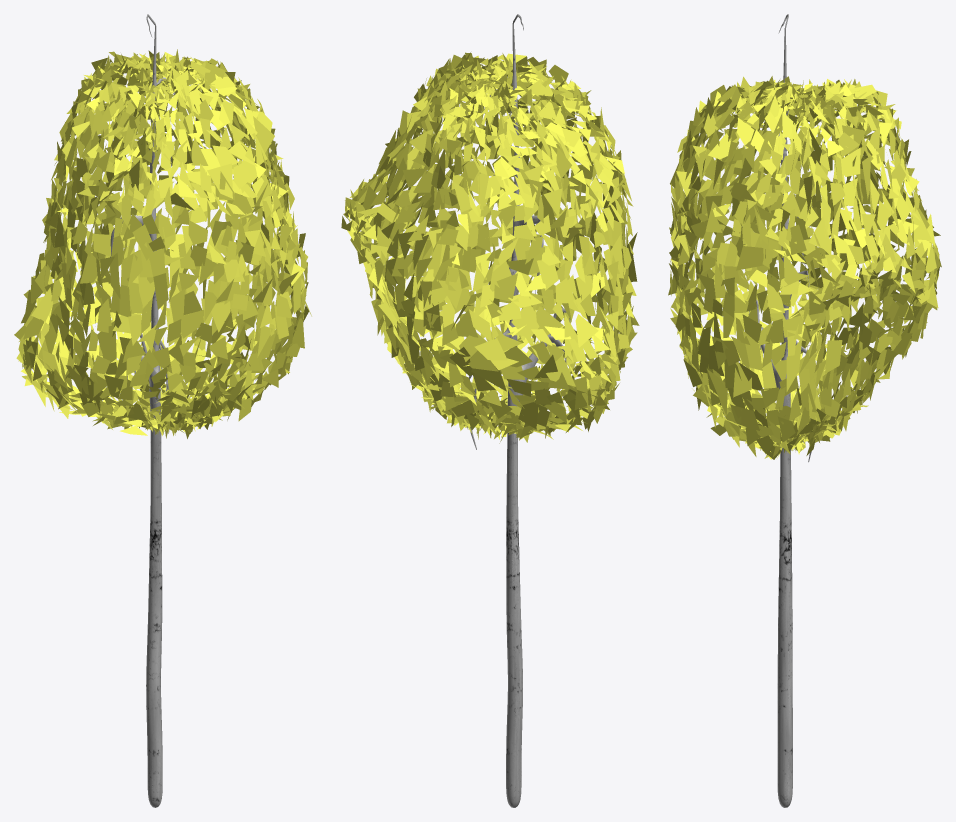
Rendered from Leaves54.001.fbx.
3 renders of one model, left to right at view 1: azimuth 30°, elevation 25°; view 2: azimuth 150°, elevation 25°; view 3: azimuth 270°, elevation 25°, orthographic.
Parts seen in each view (by area): view 1: Leaves54.001; view 2: Leaves54.001; view 3: Leaves54.001.
Part boxes in pixels (x1,y1,x2,y2): Leaves54.001: (14,14,311,807); Leaves54.001: (341,14,639,807); Leaves54.001: (668,14,941,807).
Size of the model in its own units: 903 by 2612 by 820.
Materials: 2 (1 with a texture image).
